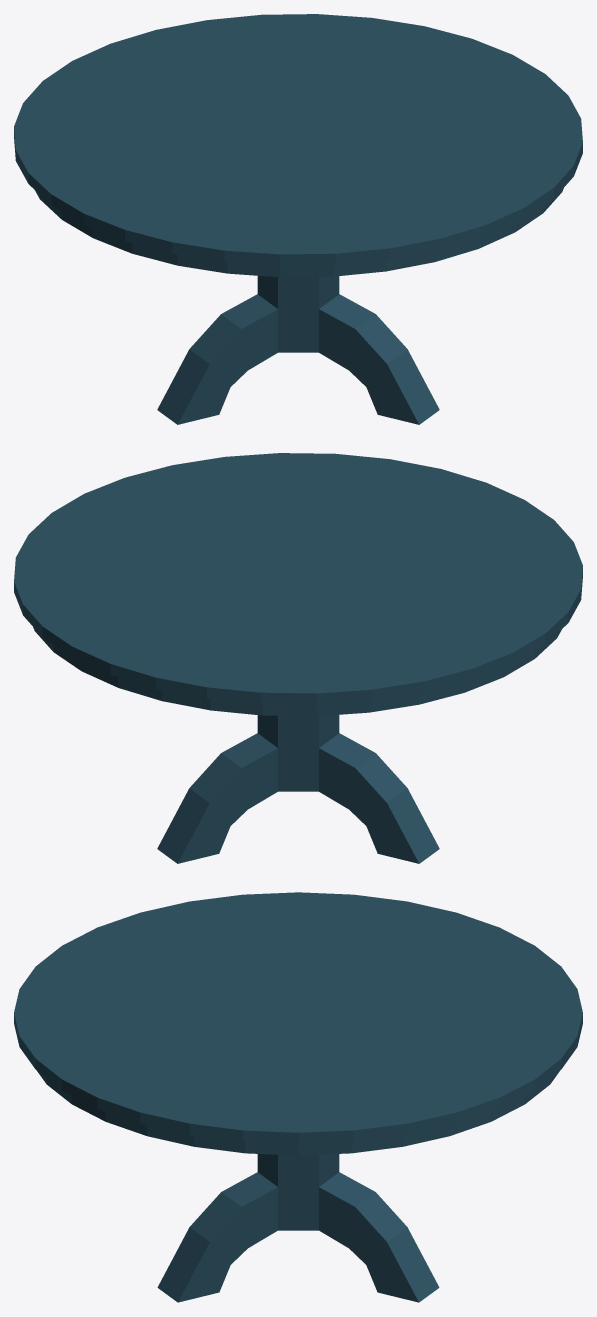
Rendered from Round table 1.fbx.
The picture shows the model from 3 angles, top to bottom: view 1: azimuth 30°, elevation 25°; view 2: azimuth 150°, elevation 25°; view 3: azimuth 270°, elevation 25°; orthographic projection.
Parts seen in each view (by area): view 1: Round table; view 2: Round table; view 3: Round table.
Part boxes in pixels (x1,y1,x2,y2): Round table: [14, 14, 582, 424]; Round table: [14, 453, 582, 863]; Round table: [14, 892, 582, 1302].
Size of the model in its own units: 200 by 97.22 by 200.
